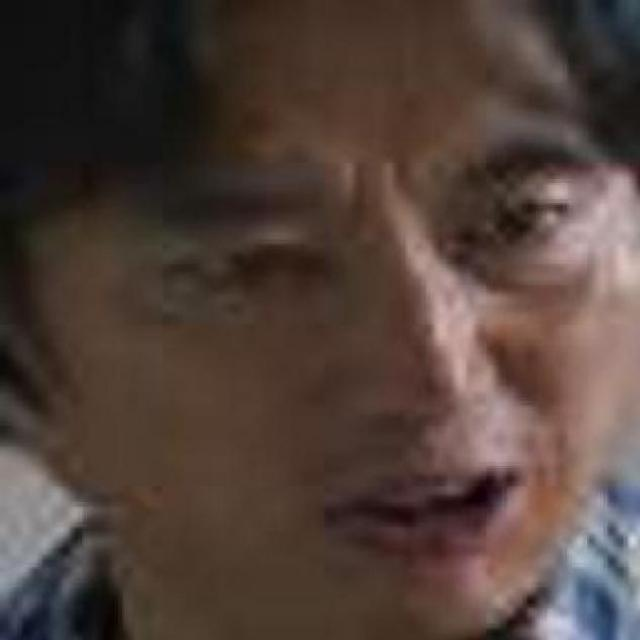Angry: (100, 97, 640, 640)
